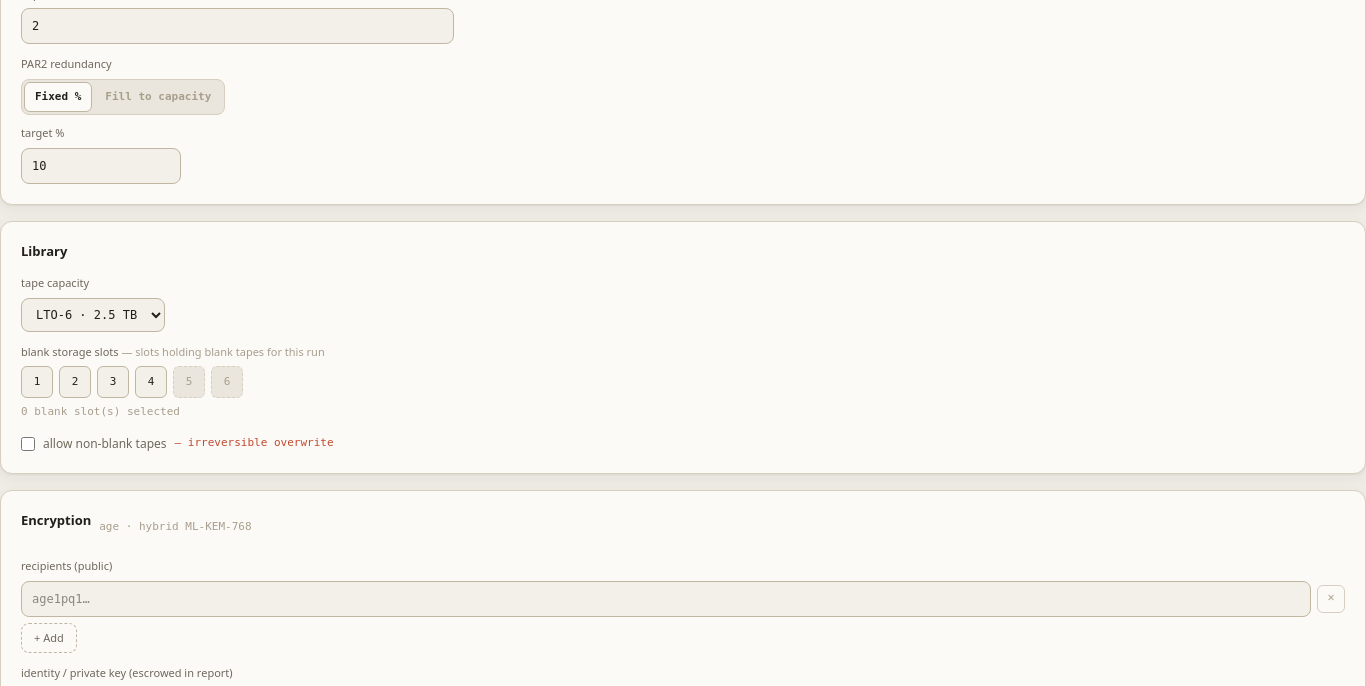
Test case: ConfigForm › warns inline when the selected blank-slot count is not a multiple of copies, and clears the warning once it is
The width and height of the screenshot is (1366, 686).
(page scrolled)
Click the button named "Slot 1".
click(37, 382)  # box 21,366 -> 53,398
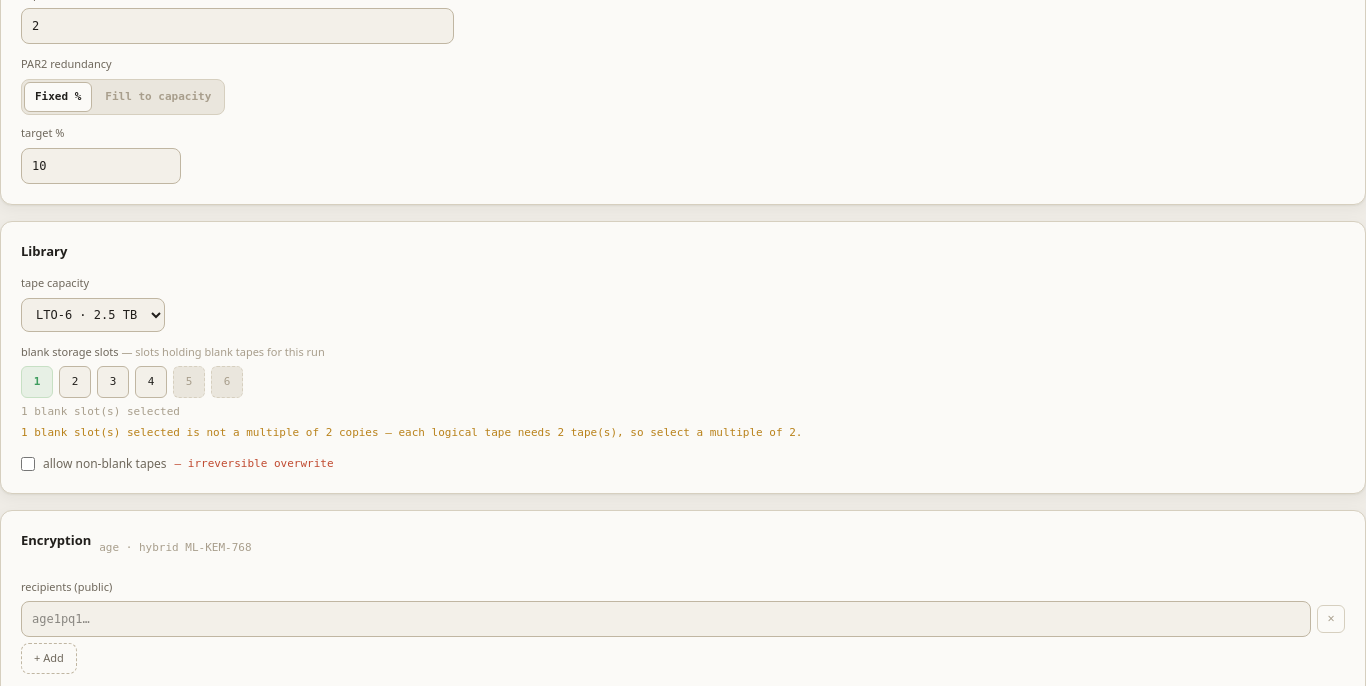
Result: the message shows "not a multiple of 2 copies" at 21,426 -> 802,438
Note: A second blank slot makes the count a whole multiple of copies — warning gone.
Click the button named "Slot 2".
click(75, 382)  # box 59,366 -> 91,398
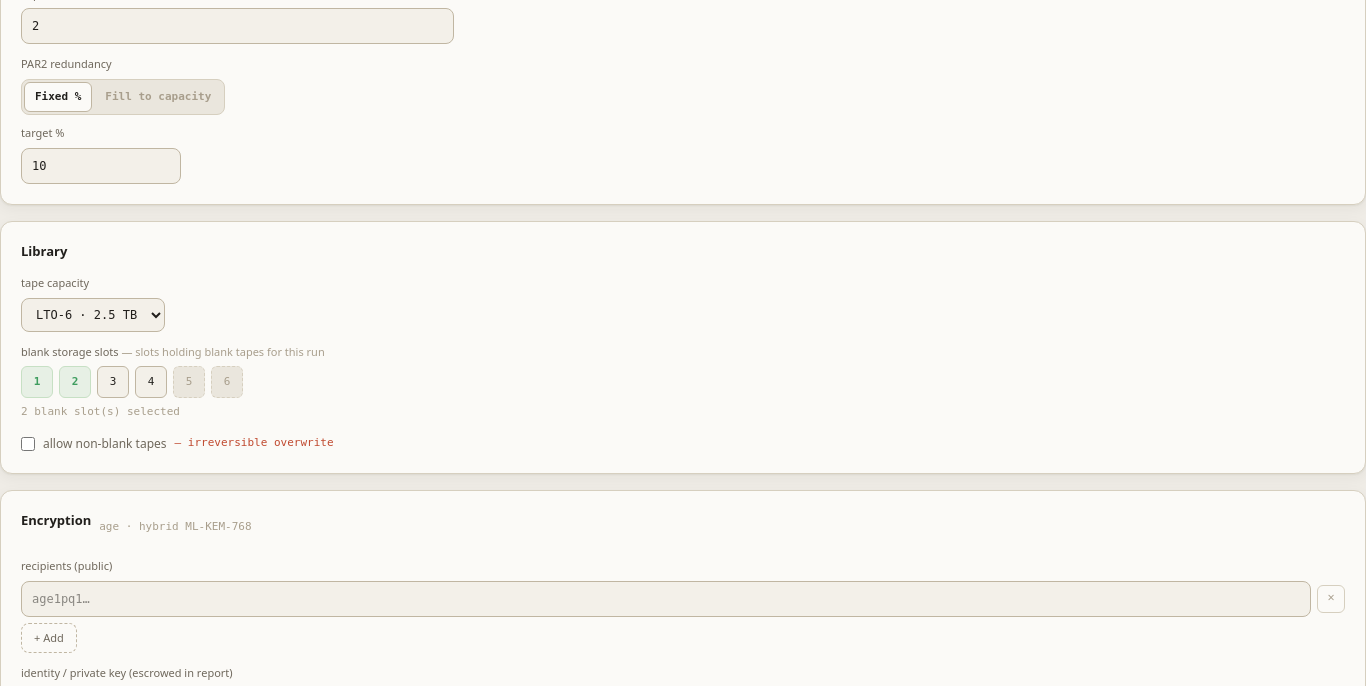
Result: the message is gone
